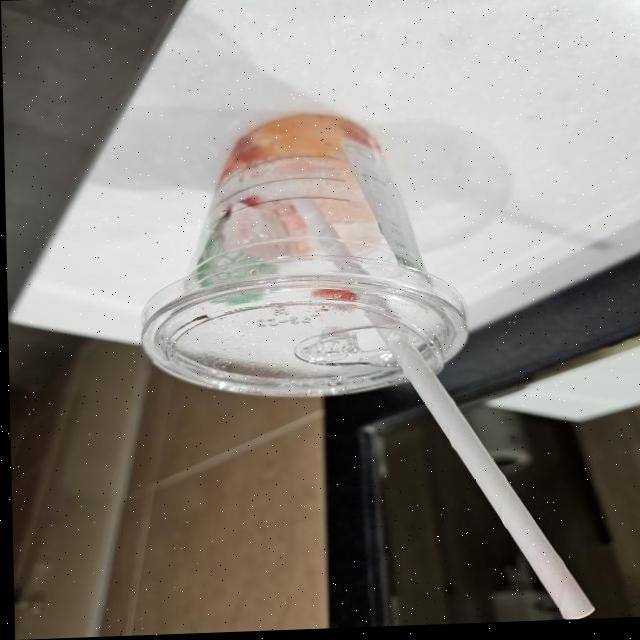cup: (129, 112, 479, 422)
